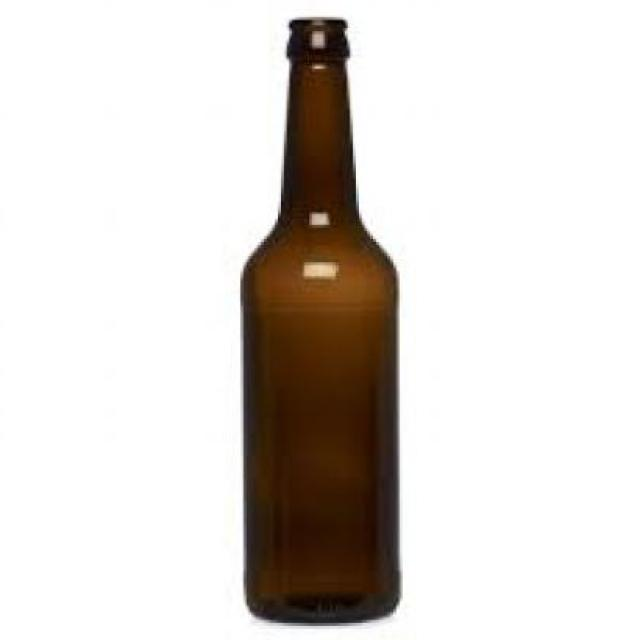kaca: (240, 14, 402, 620)
